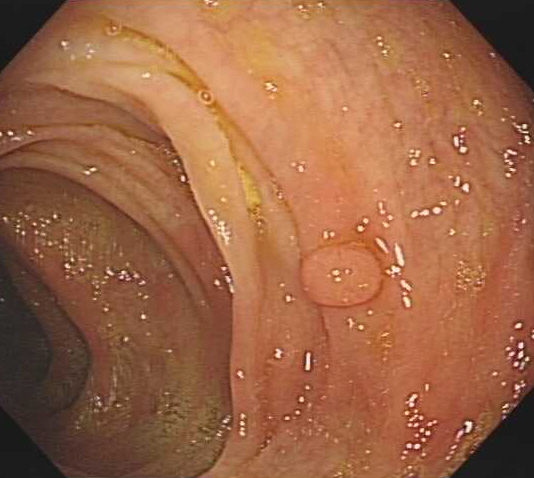adenoma: (298, 241, 384, 311)
